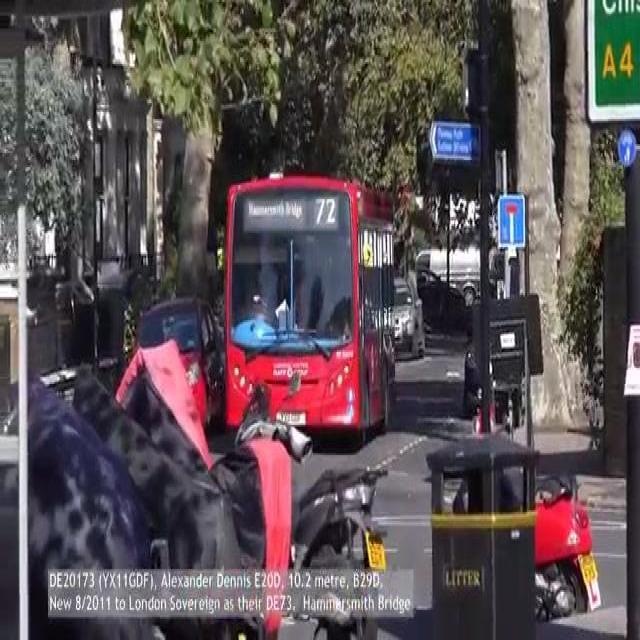bus: (216, 176, 399, 439)
